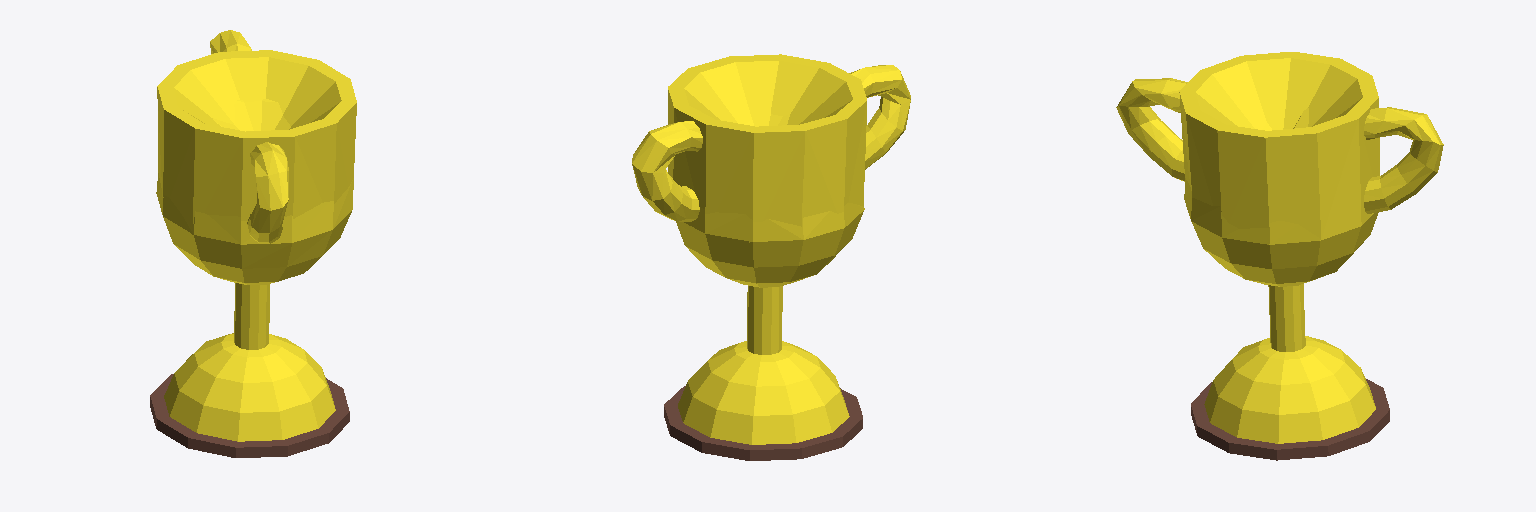
The picture shows the model from 3 angles: view 1: azimuth 30°, elevation 25°; view 2: azimuth 150°, elevation 25°; view 3: azimuth 270°, elevation 25°; orthographic projection.
Visible parts, largest first — view 1: group[number redacted]; view 2: group[number redacted]; view 3: group[number redacted].
Part boxes in pixels (bbox=[...]): group[number redacted]: bbox=[150, 30, 356, 457]; group[number redacted]: bbox=[632, 54, 910, 460]; group[number redacted]: bbox=[1116, 52, 1443, 460].
Size of the model in its own units: 0.2785 by 0.5024 by 0.4523.